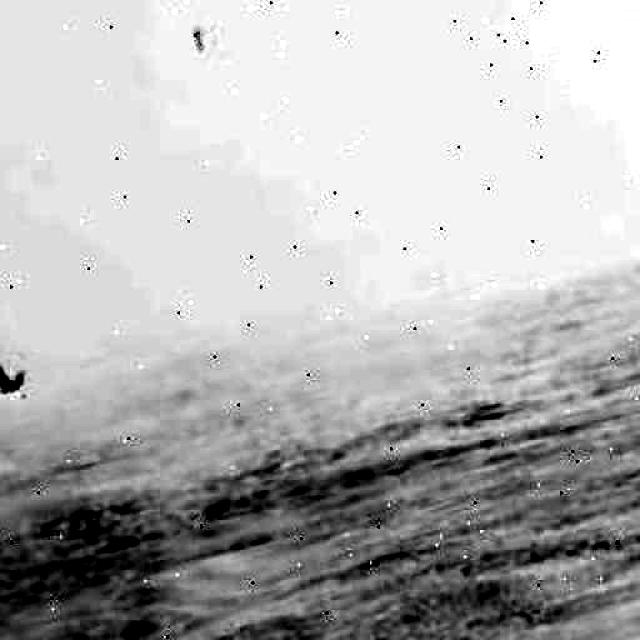airplane: (0, 349, 32, 402), (191, 21, 215, 52)
